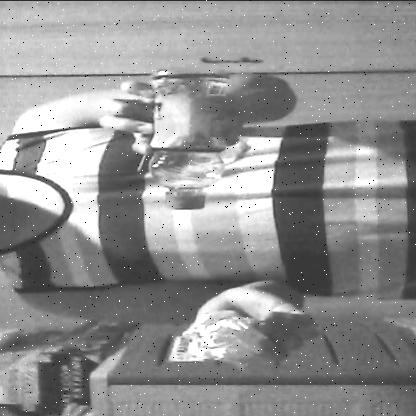Plastic Bottle: (132, 64, 240, 214)
